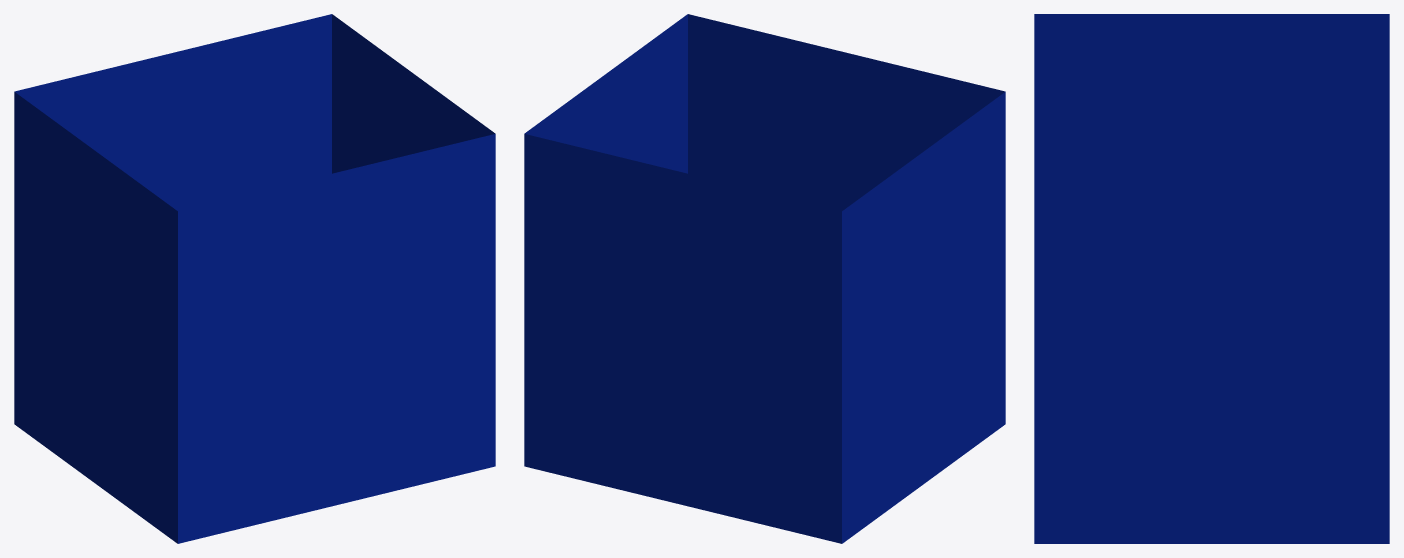
The model's file is Shooting_bottom.fbx.
3 views of the same model, side by side, from view 1: azimuth 30°, elevation 25°; view 2: azimuth 150°, elevation 25°; view 3: azimuth 270°, elevation 25° (orthographic). The views are drawn at different scales.
Visible parts, largest first — view 1: Genre.008; view 2: Genre.008; view 3: Genre.008.
Part boxes in pixels (x1,y1,x2,y2): Genre.008: (14,14,495,543); Genre.008: (524,14,1005,543); Genre.008: (1034,14,1389,543).
Bounding box in the file's own units: 1487 × 1326 × 1487.
